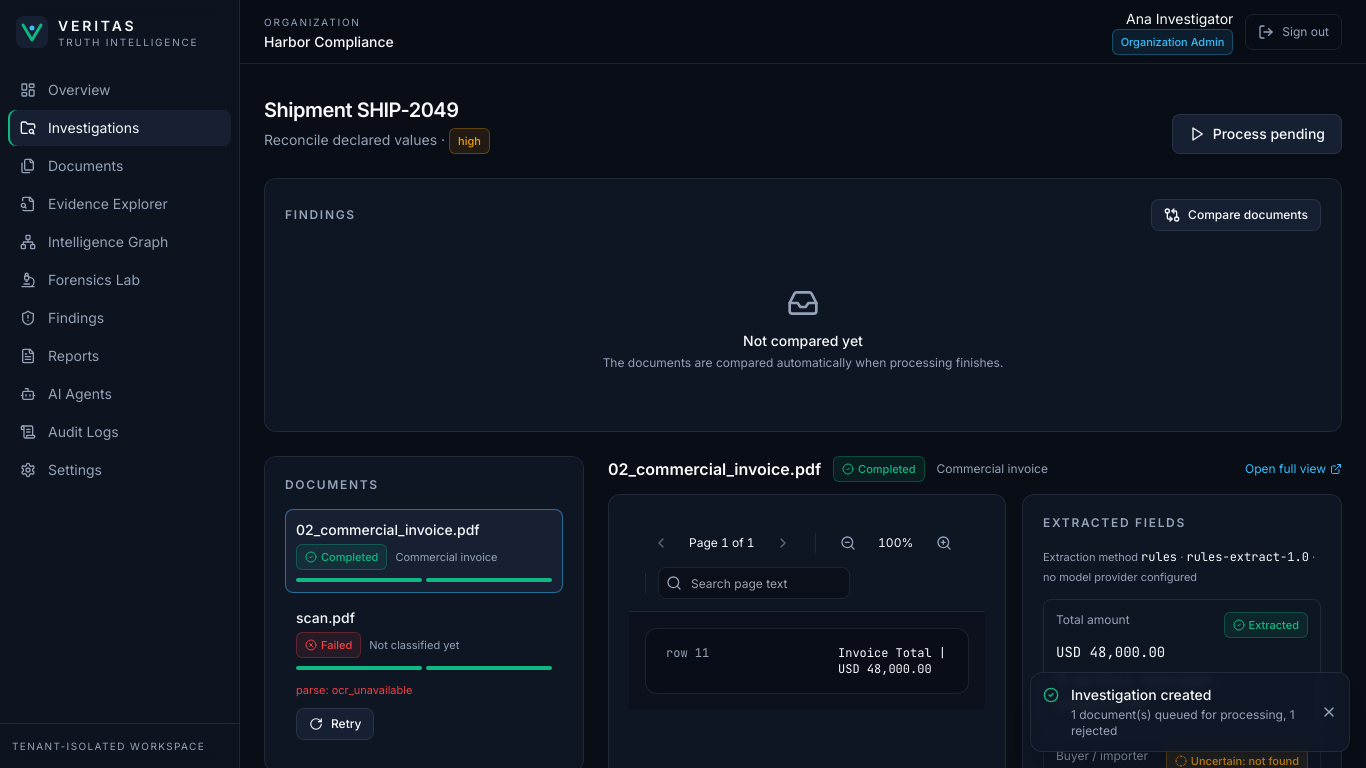
Test: the workspace lists documents, shows failures with retry and the fields with provenance
Expected: the text "parse: ocr_unavailable" is shown, [296,683,412,697]
Expected: the text "Failed" is shown, [296,632,361,658]
Click the button "Total amount": (1093,620) [1043,599,1321,727]
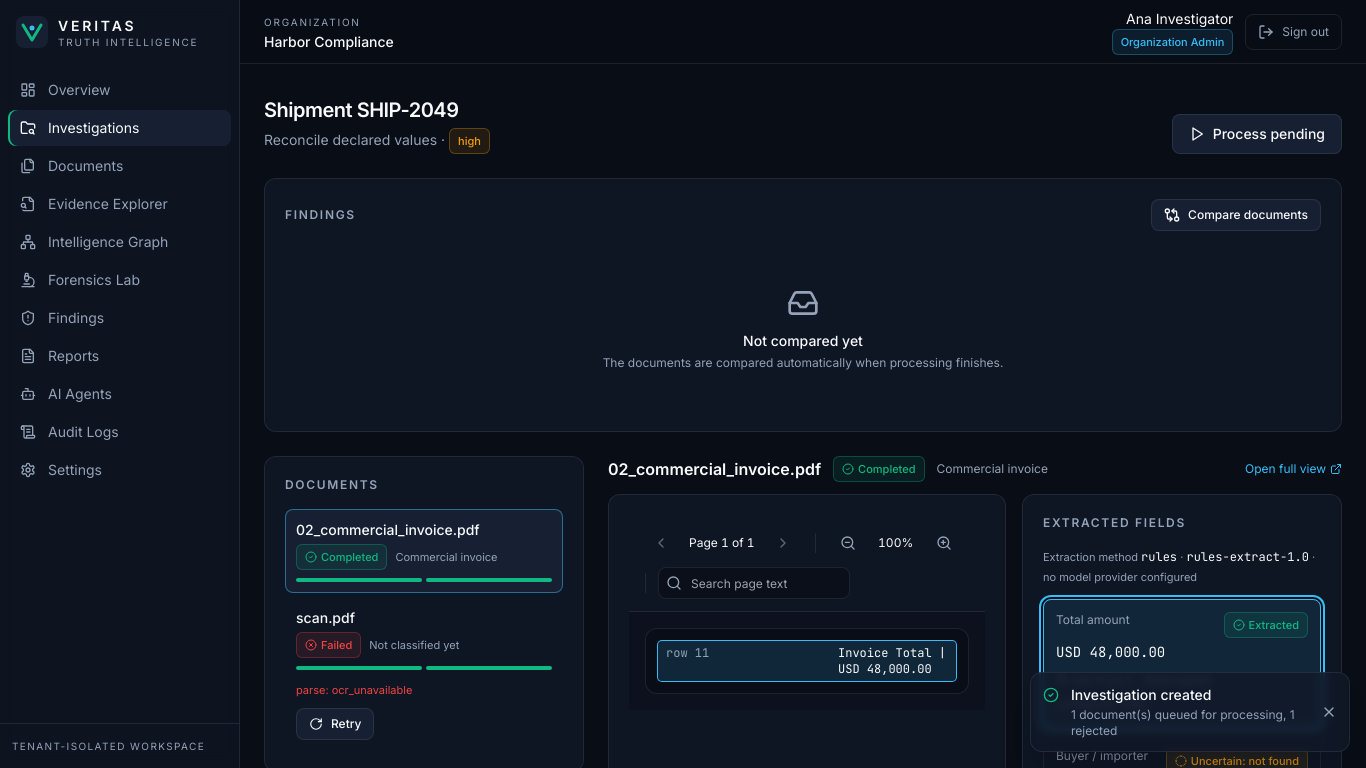
Expected: the list item "row 11 Invoice Total | USD 48,000.00" is shown, [658,641,956,681]
Click the button "Retry": (335,724) [296,708,374,740]
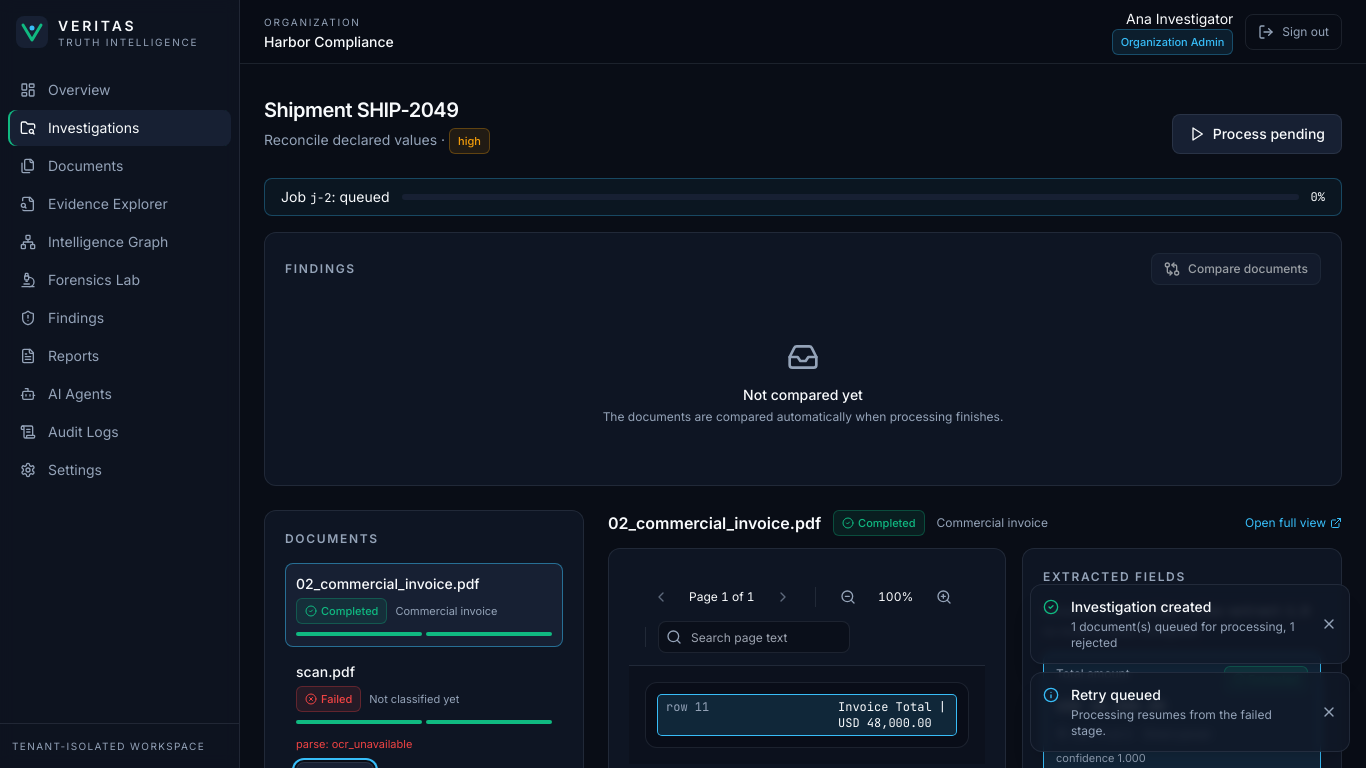
Expected: the text "Retry queued" is shown, [1071,686,1161,703]
